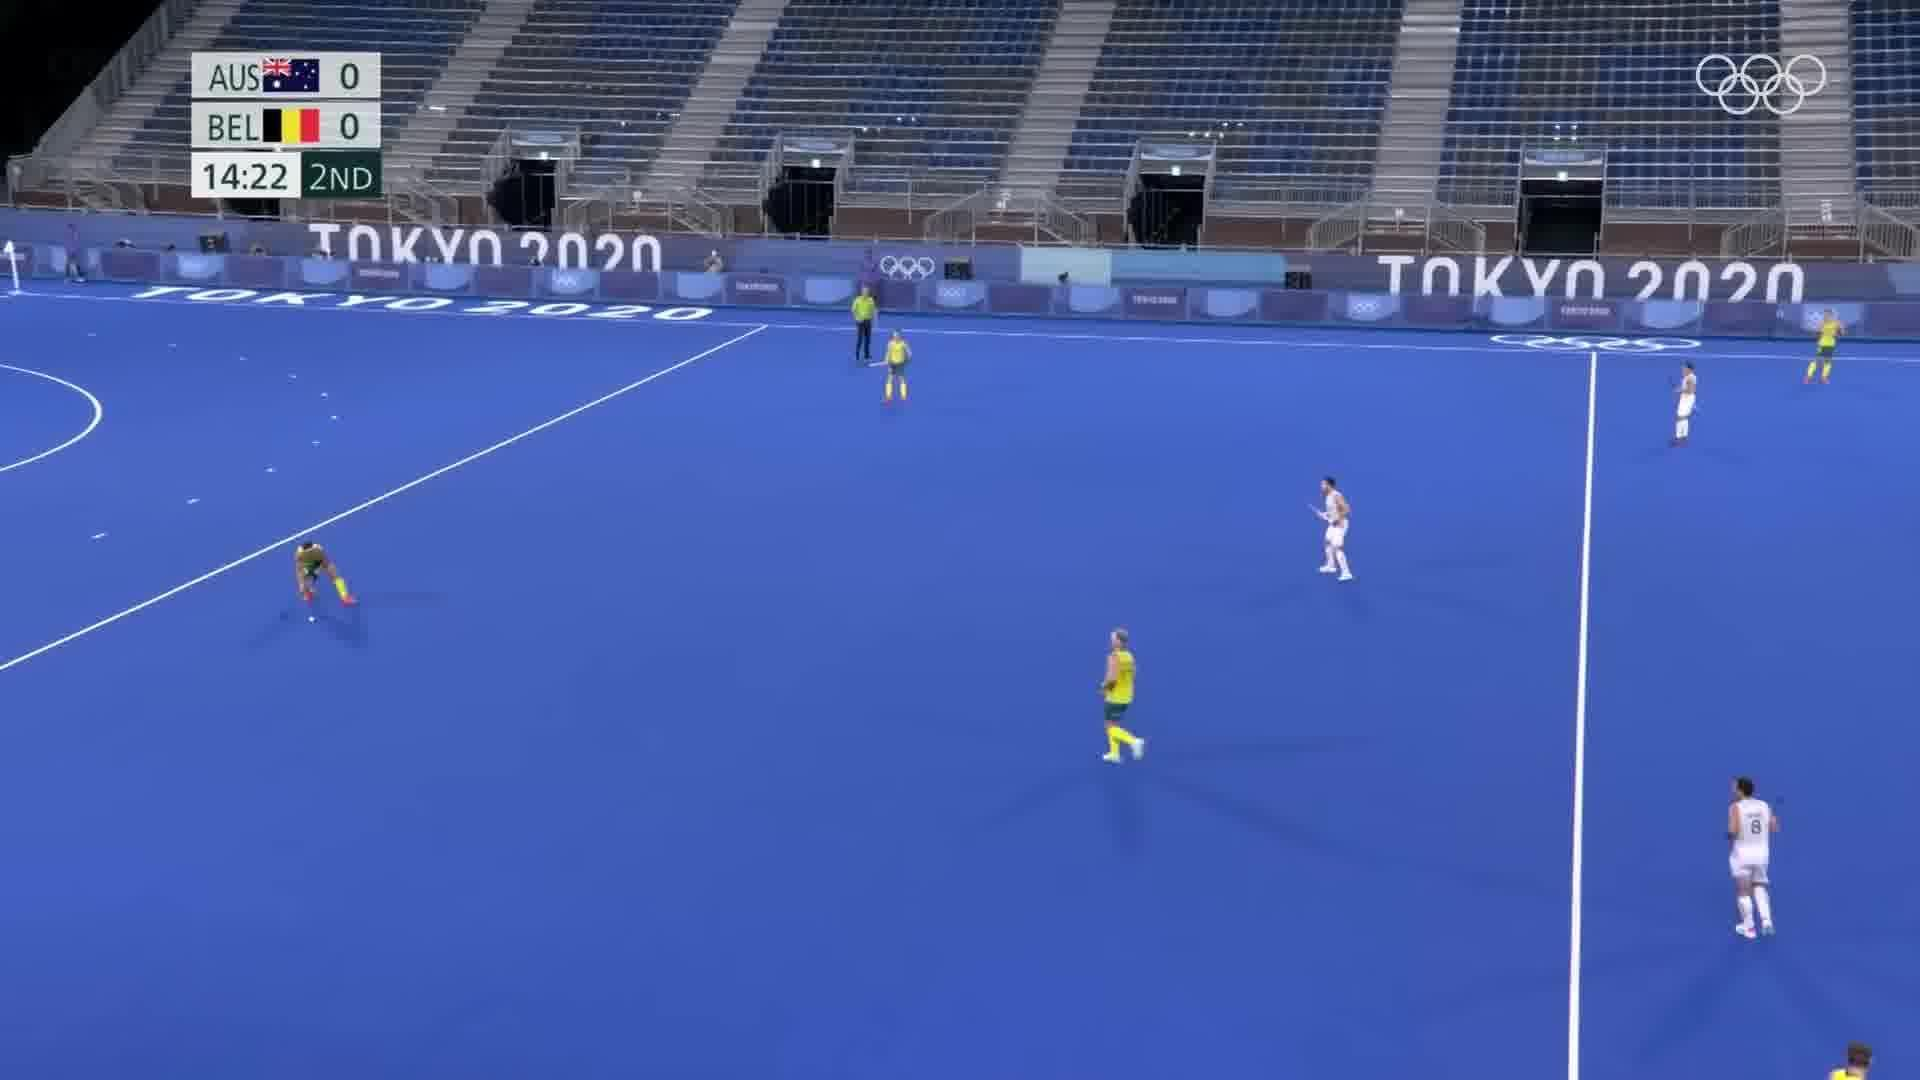ball: (303, 609, 322, 625)
